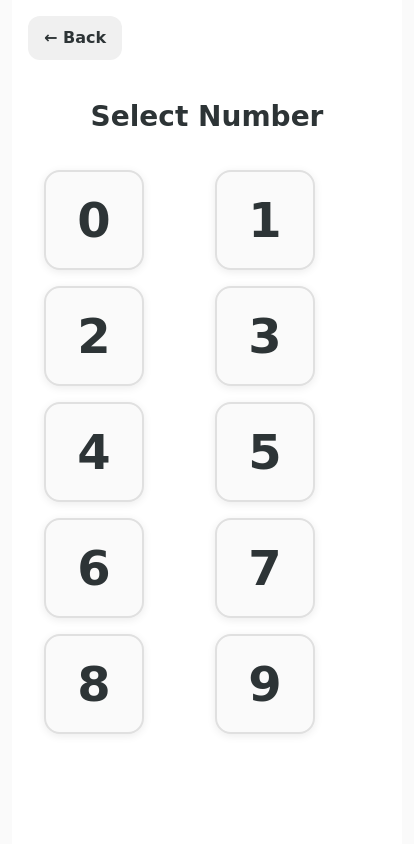
Test: Tracing Flow Integration › should display progress indicator when tracing
expect the heading "Select Number" is shown: met, box [91,100,324,133]
// Select character "1" (single stroke)
Step 1. Click the button "1" → click(265, 220), box [215,170,315,270]
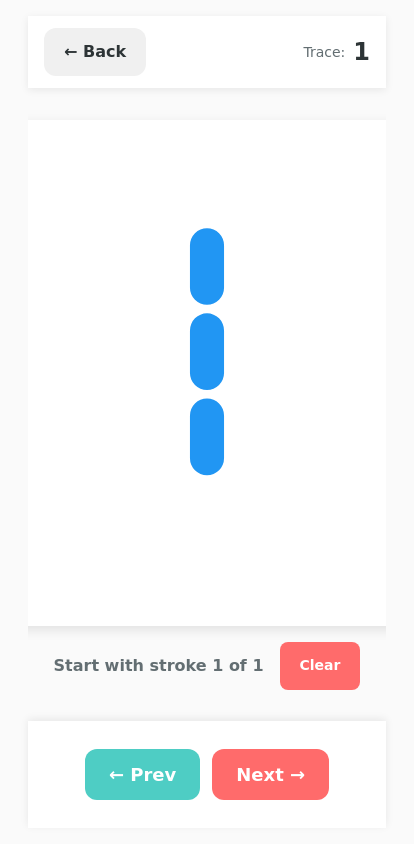
expect the text "Start with stroke 1 of 1" is shown: met, box [54,654,264,678]
